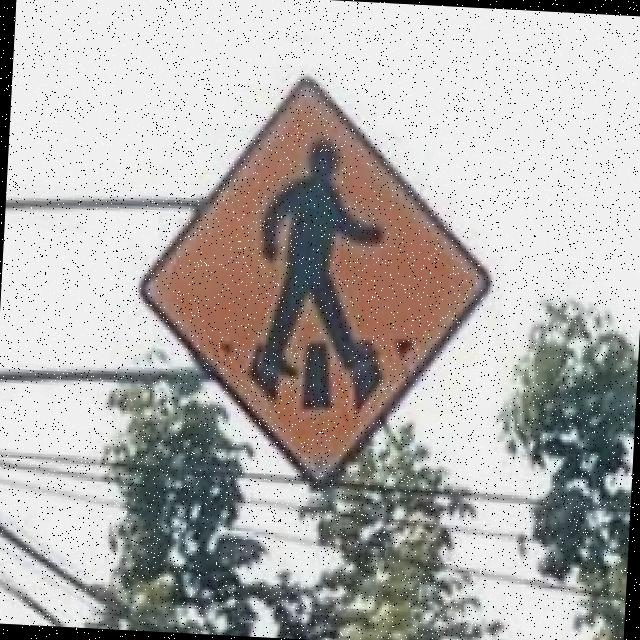Przejscie dla pieszych: (138, 63, 494, 500)
